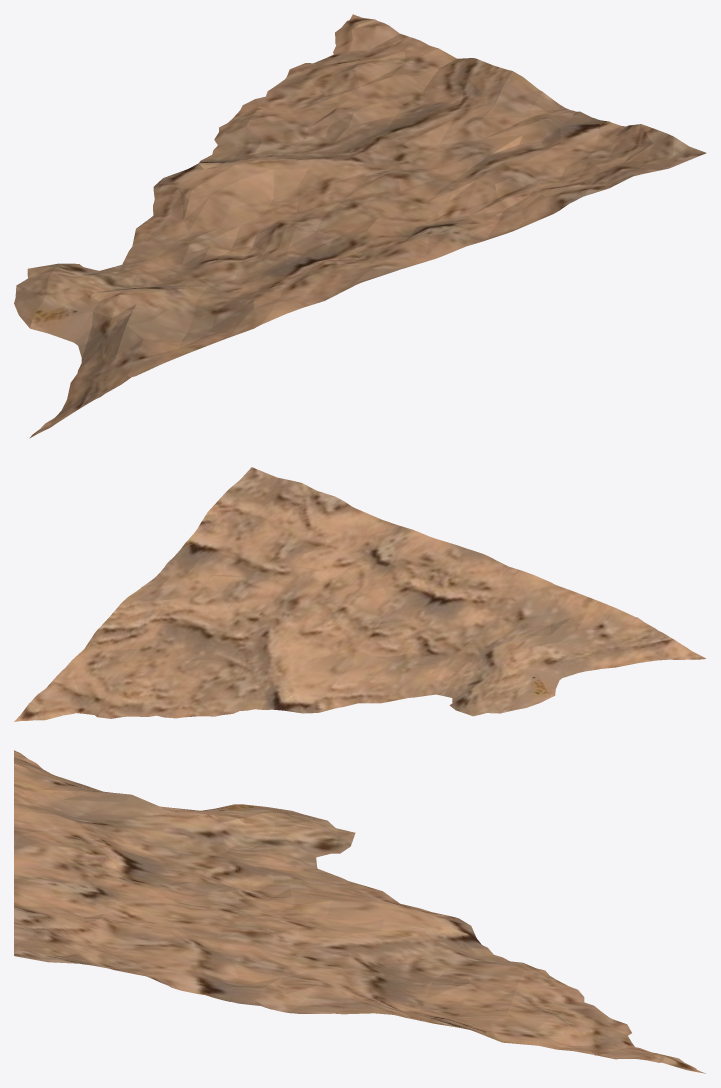
3 renders of one model, top to bottom at view 1: azimuth 30°, elevation 25°; view 2: azimuth 150°, elevation 25°; view 3: azimuth 270°, elevation 25°, orthographic. The views are drawn at different scales.
Size of the model in its own units: 0.5173 by 0.0878 by 0.468.
Materials: 1 (1 with a texture image).
